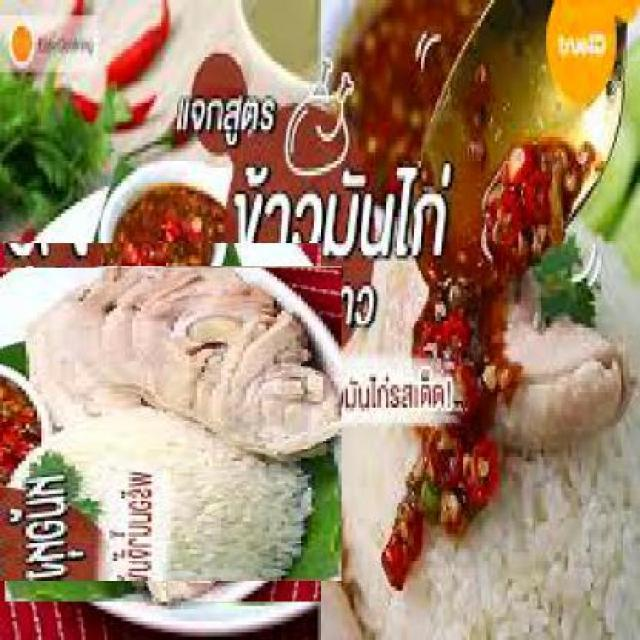Chicken Rice: (0, 253, 334, 592)
